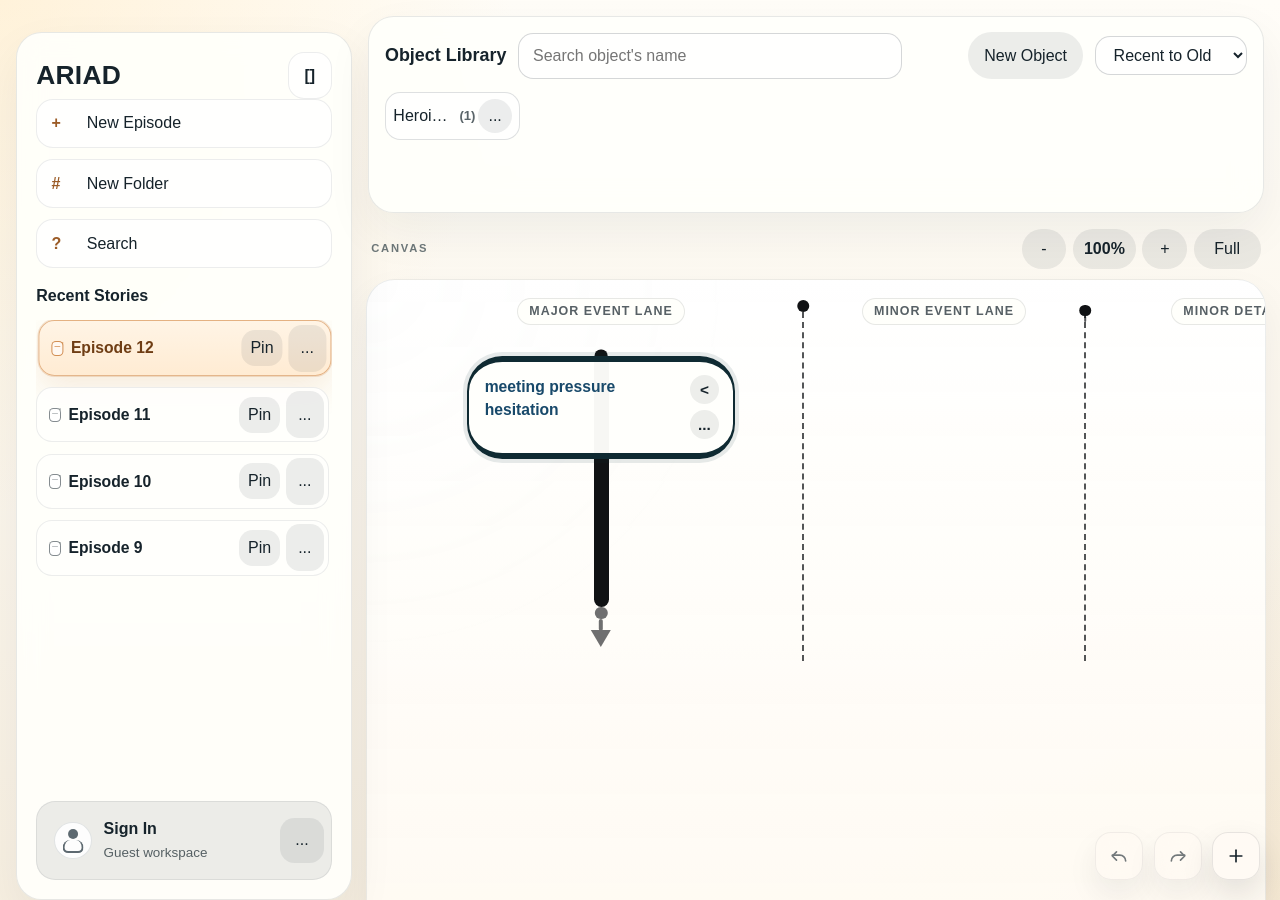
Test: workspace shell recommendation flow › removes keyword cloud save and sentence controls in the immediate-apply flow
What coordinates should you click on to do the following:
click the button named "Create Node"
I would click on:
 (1236, 856)
Its box is x1=1212 y1=832 x2=1260 y2=880.
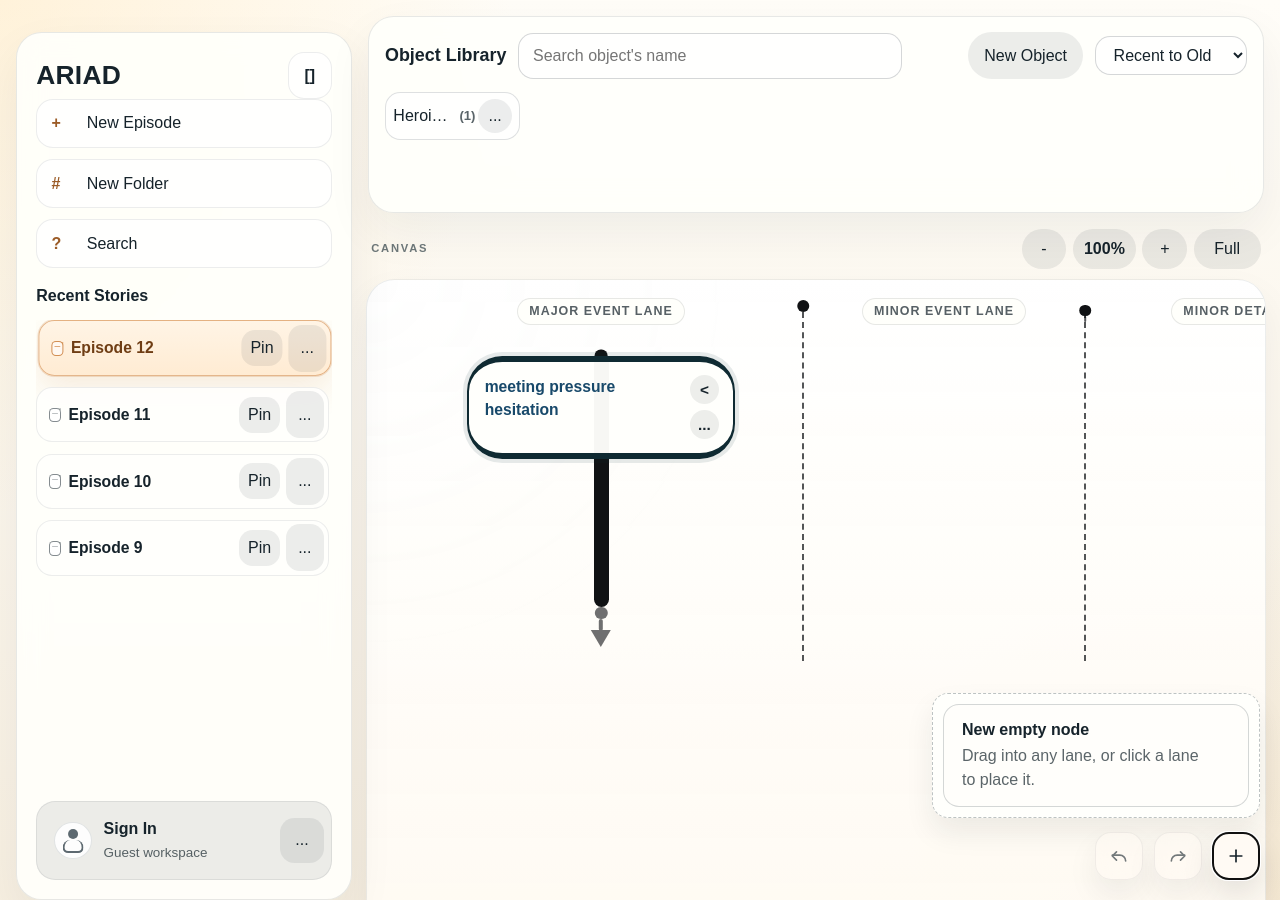
What coordinates should you click on to do the following:
click the element with test id "lane-major"
I would click on:
 (601, 500)
Its box is x1=586 y1=349 x2=616 y2=651.
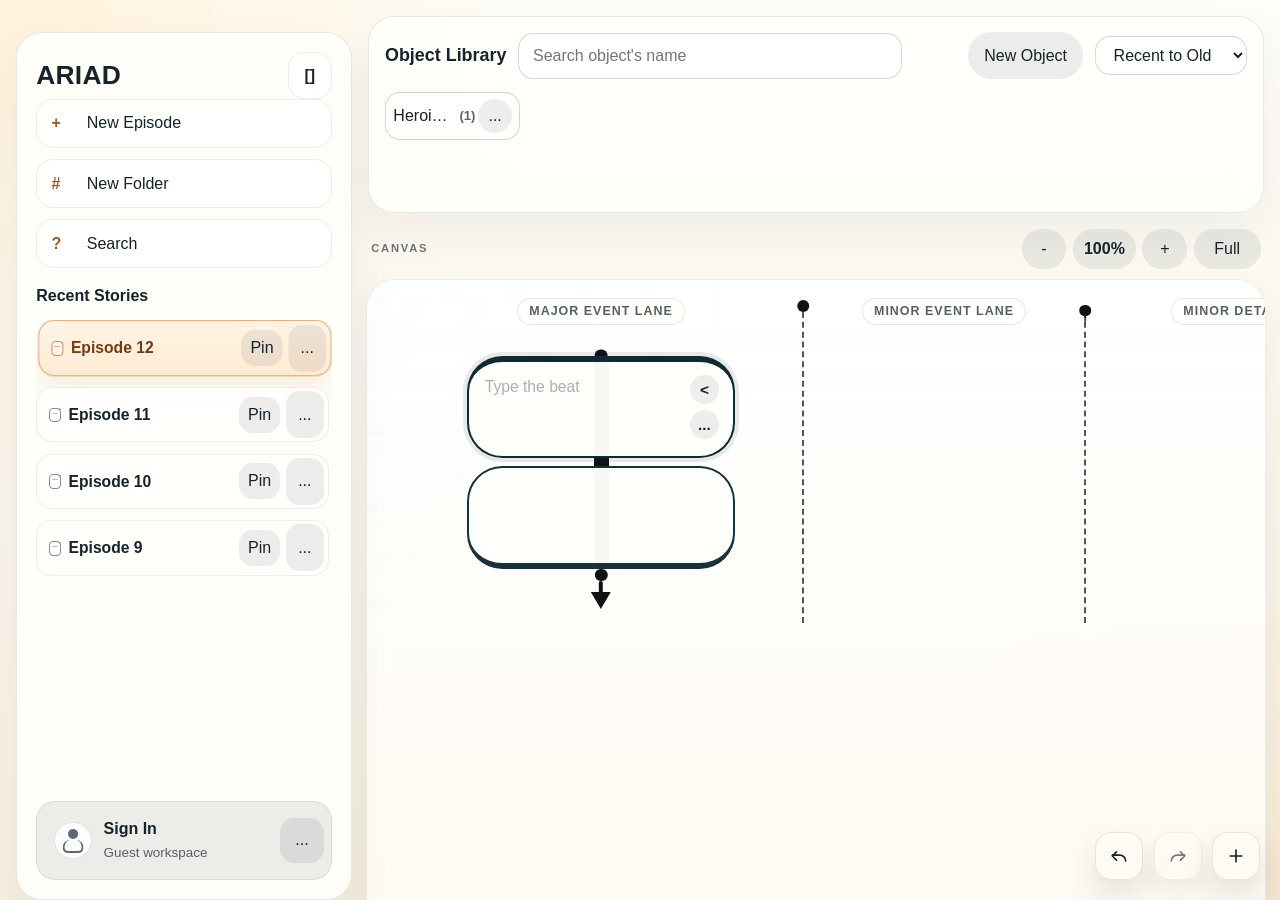
What coordinates should you click on to do the following:
click the button named "More"
I would click on:
 (704, 424)
Its box is x1=690 y1=410 x2=719 y2=439.
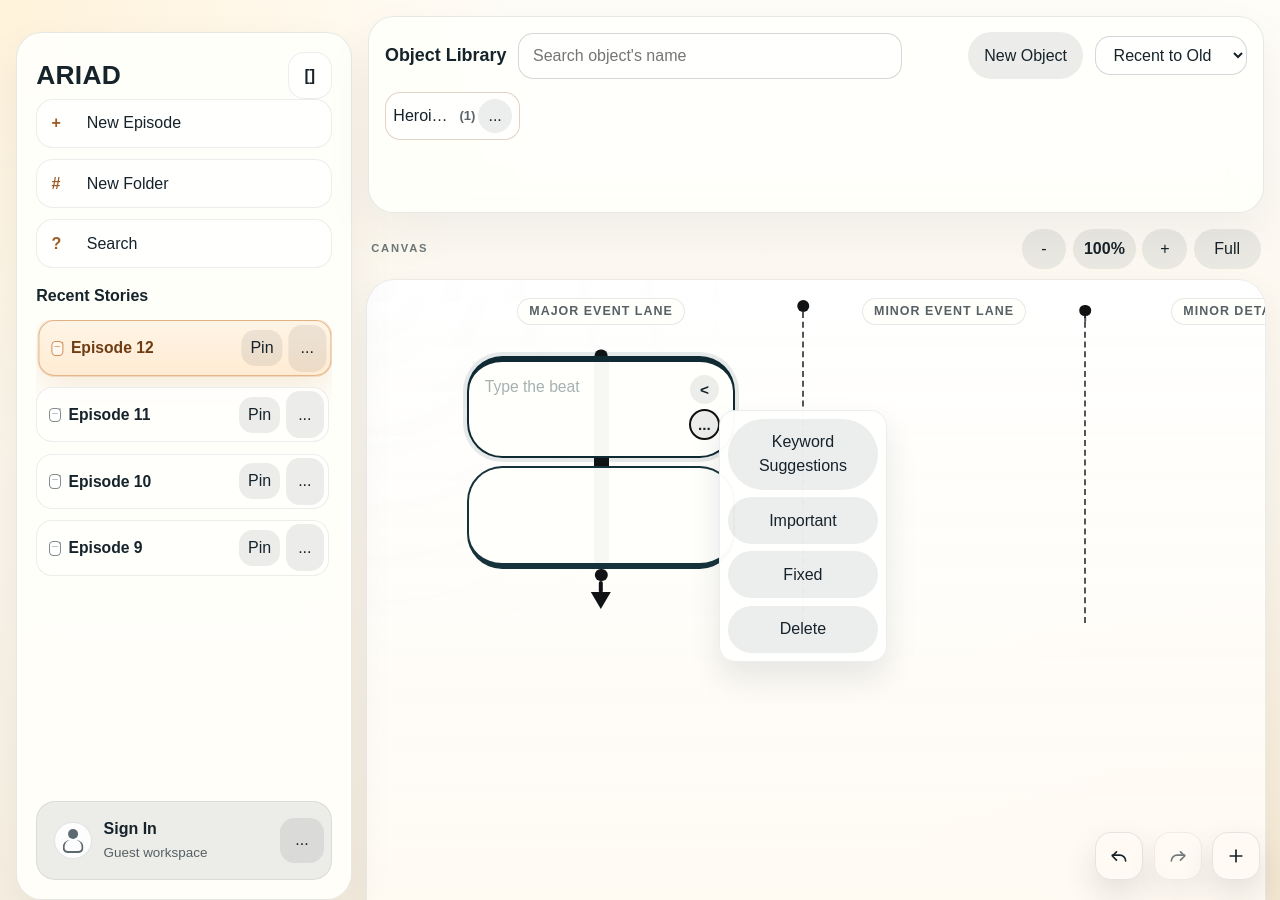
What coordinates should you click on to do the following:
click the button "Keyword Suggestions"
I would click on:
 (803, 454)
Its box is x1=728 y1=419 x2=878 y2=490.
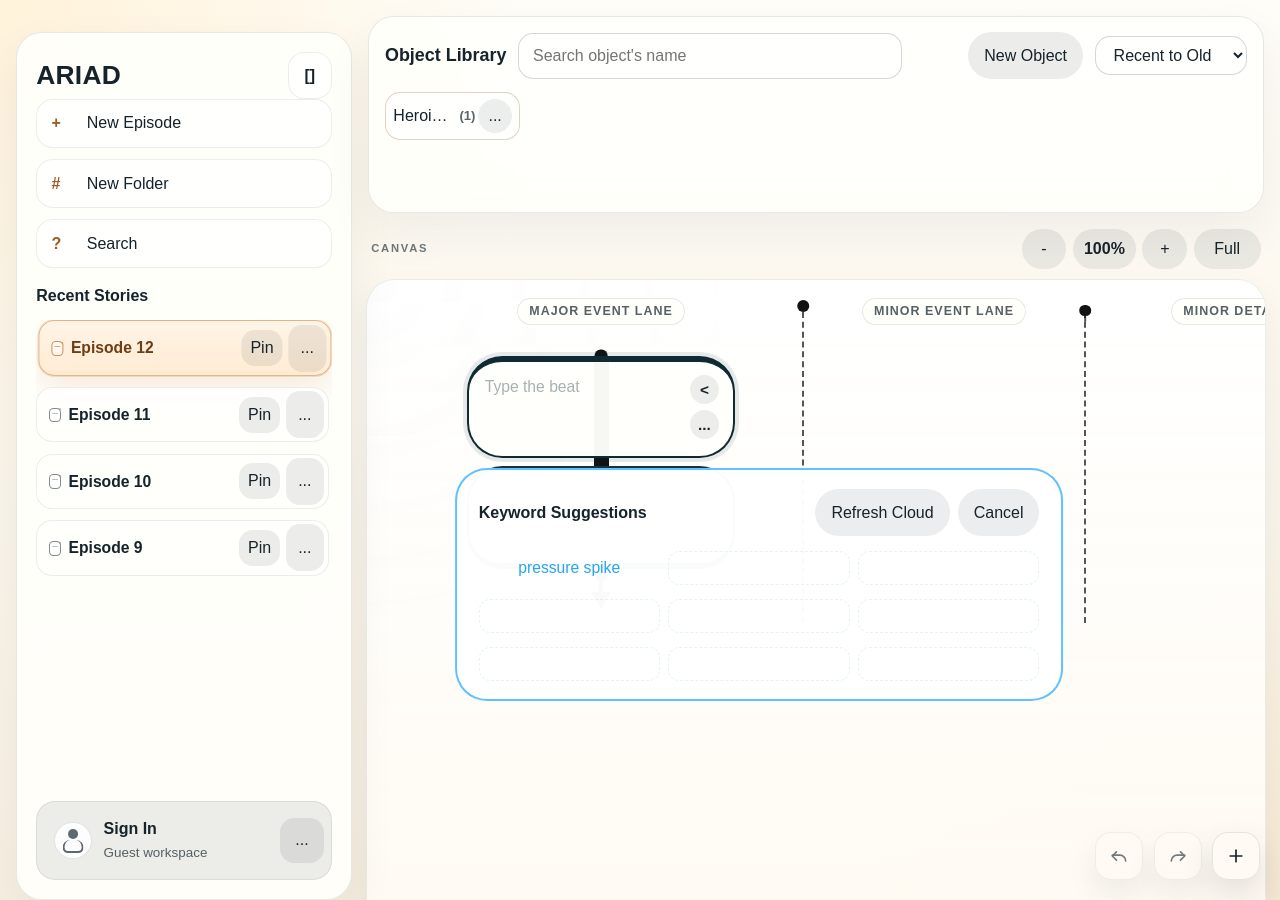
Result: the button "Refresh Cloud" is shown at x1=815 y1=489 x2=950 y2=536
Result: the button "Cancel" is shown at x1=958 y1=489 x2=1040 y2=536
